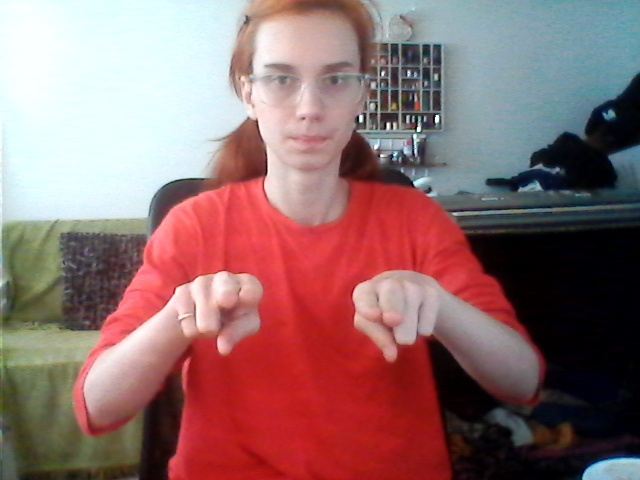brat: (175, 261, 441, 381)
